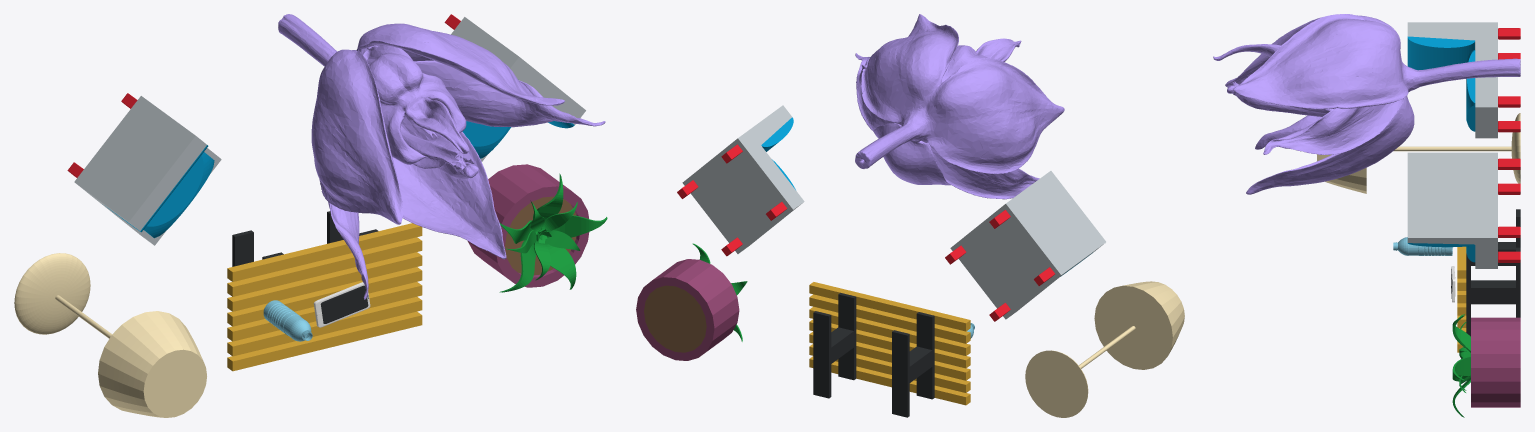
The model's file is tinker.obj.
The picture shows the model from 3 angles, left to right: view 1: azimuth 30°, elevation 25°; view 2: azimuth 150°, elevation 25°; view 3: azimuth 270°, elevation 25°; orthographic projection. The views are drawn at different scales.
Parts seen in each view (by area): view 1: group_0_12230652, group_0_14789940, group_0_16311991, group_0_12568524, group_0_9848949, group_0_1481787, group_0_40919, group_0_2829873, group_0_9070665, group_0_8768998, group_0_16448250; view 2: group_0_12230652, group_0_12568524, group_0_16311991, group_0_14789940, group_0_2829873, group_0_9848949, group_0_9070665, group_0_15277357; view 3: group_0_12230652, group_0_12568524, group_0_9848949, group_0_40919, group_0_2829873, group_0_15277357, group_0_16311991, group_0_1481787, group_0_14789940, group_0_8768998.
Boxes of the visible parts, x1,y1,x2,y2 form: group_0_12230652: (278,14,605,299); group_0_14789940: (227,223,422,371); group_0_16311991: (14,253,206,417); group_0_12568524: (74,17,585,245); group_0_9848949: (467,164,589,287); group_0_1481787: (499,173,607,292); group_0_40919: (107,121,574,238); group_0_2829873: (232,211,378,323); group_0_9070665: (505,196,576,275); group_0_8768998: (263,300,312,341); group_0_16448250: (313,282,370,327); group_0_12230652: (855,14,1064,199); group_0_12568524: (682,105,1105,319); group_0_16311991: (1025,281,1184,417); group_0_14789940: (809,282,970,405); group_0_2829873: (813,292,934,417); group_0_9848949: (636,259,739,360); group_0_9070665: (644,285,706,352); group_0_15277357: (677,144,1054,321); group_0_12230652: (1213,14,1520,194); group_0_12568524: (1407,22,1497,268); group_0_9848949: (1471,317,1520,407); group_0_40919: (1407,36,1475,262); group_0_2829873: (1451,209,1520,336); group_0_15277357: (1498,28,1520,262); group_0_16311991: (1317,113,1520,193); group_0_1481787: (1452,314,1470,417); group_0_14789940: (1457,246,1466,352); group_0_8768998: (1393,237,1452,255).
Bounding box in the file's own units: 120 × 74 × 67.91.
